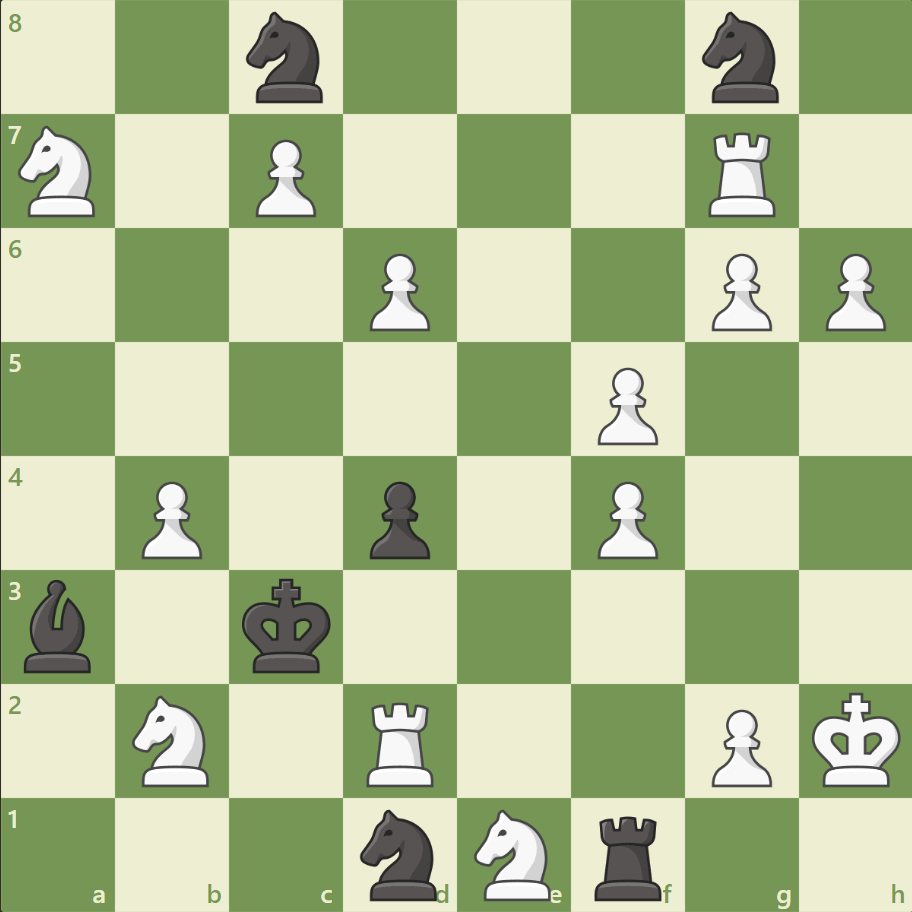K: (806, 685, 906, 793)
N: (124, 688, 222, 791), (11, 121, 108, 223), (465, 802, 562, 904)
P: (247, 132, 322, 223), (701, 246, 776, 337), (133, 473, 208, 564), (701, 700, 776, 791), (361, 246, 435, 337), (815, 246, 889, 337), (588, 359, 662, 450), (588, 473, 662, 564)
R: (700, 125, 783, 222), (360, 693, 442, 790)
b: (17, 574, 101, 676)
k: (238, 571, 338, 679)
n: (351, 802, 449, 904), (238, 7, 335, 110), (692, 7, 789, 110)
p: (361, 473, 435, 564)
r: (587, 806, 670, 904)
